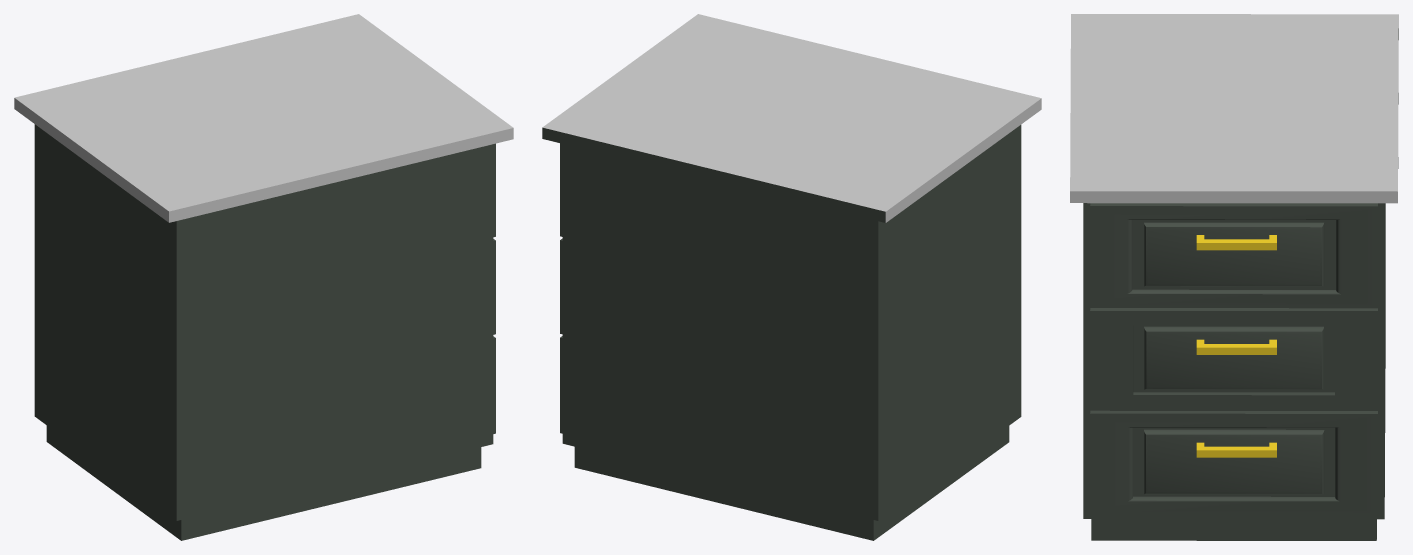
Rendered from Cajonera.fbx.
3 views of the same model, side by side, from view 1: azimuth 30°, elevation 25°; view 2: azimuth 150°, elevation 25°; view 3: azimuth 270°, elevation 25° (orthographic). The views are drawn at different scales.
Parts seen in each view (by area): view 1: DrawerUnit; view 2: DrawerUnit; view 3: DrawerUnit.
Part boxes in pixels (x1,y1,x2,y2): DrawerUnit: (14, 14, 513, 540); DrawerUnit: (542, 14, 1041, 540); DrawerUnit: (1070, 14, 1398, 540).
Size of the model in its own units: 108 by 100 by 82.87.
